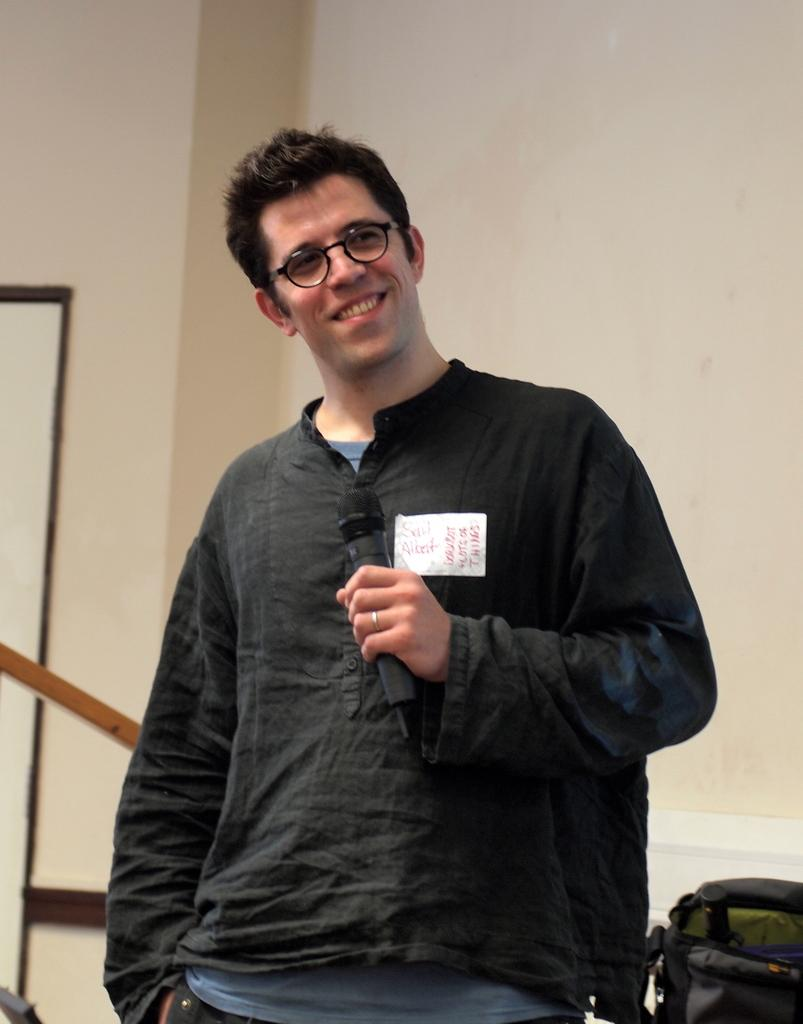Luggage-and-bags: (626, 879, 788, 1022)
